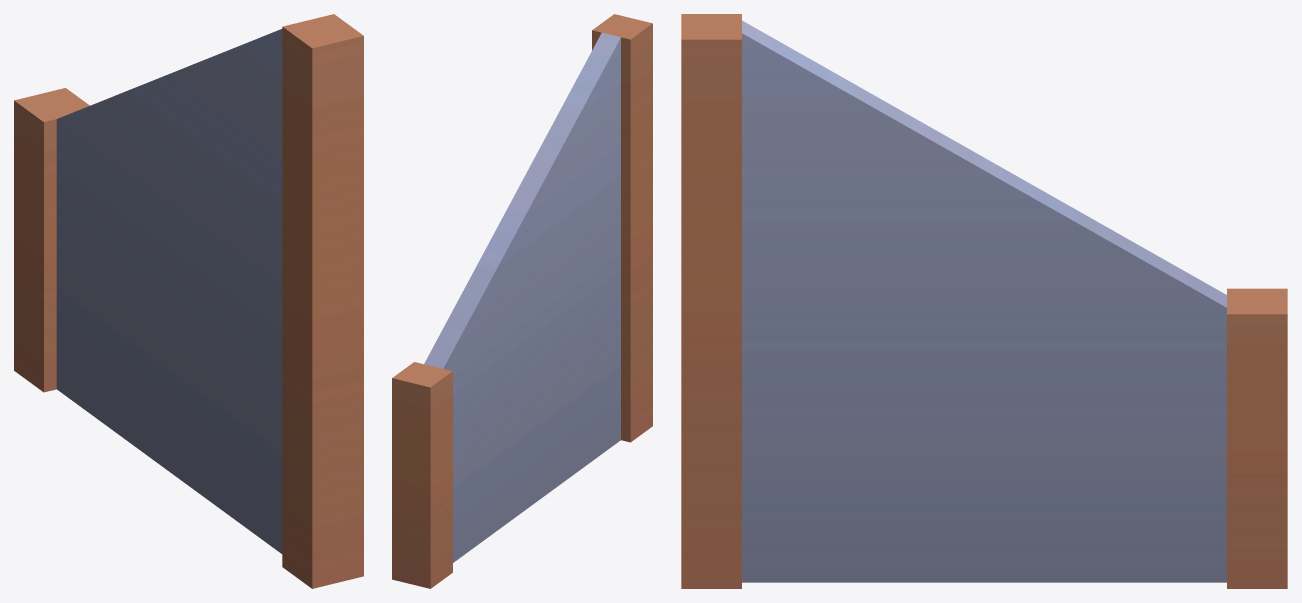
The model's file is wall-slope.glb.
The picture shows the model from 3 angles, left to right: view 1: azimuth 30°, elevation 25°; view 2: azimuth 150°, elevation 25°; view 3: azimuth 270°, elevation 25°; orthographic projection. The views are drawn at different scales.
Visible parts, largest first — view 1: wall-slope; view 2: wall-slope; view 3: wall-slope.
Boxes of the visible parts, x1=… form: wall-slope: x1=14, y1=14, x2=363, y2=588; wall-slope: x1=392, y1=14, x2=652, y2=588; wall-slope: x1=681, y1=14, x2=1287, y2=588.
Bounding box in the file's own units: 0.1 × 1 × 1.
Materials: 1 (1 with a texture image).
